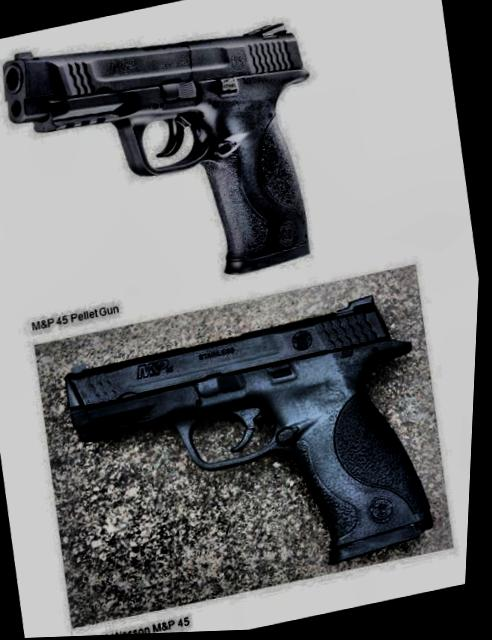pistol: (55, 291, 453, 616), (0, 0, 344, 320)
